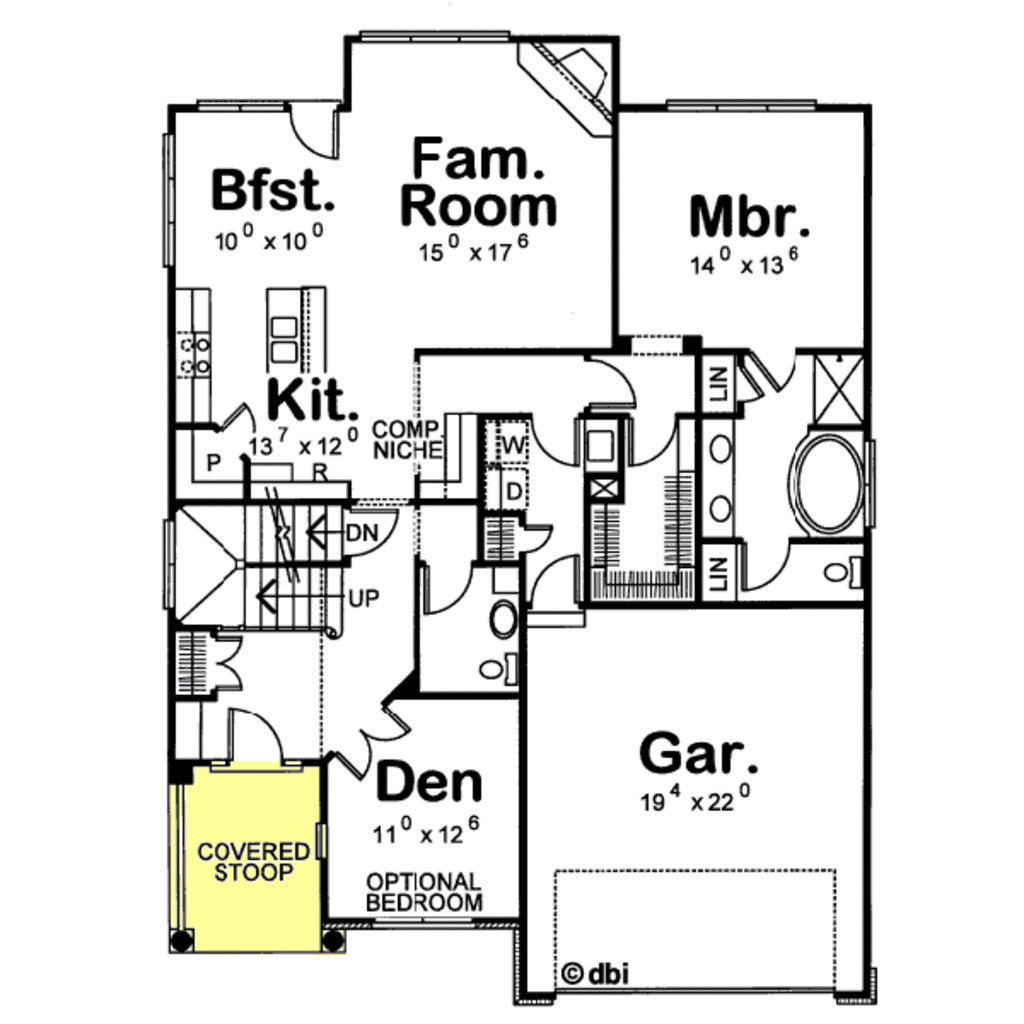door: (318, 693, 410, 785), (215, 703, 310, 773), (334, 497, 417, 562), (283, 93, 353, 165), (528, 552, 585, 632), (194, 624, 253, 692), (415, 557, 478, 620), (745, 338, 804, 403), (525, 405, 577, 478), (585, 351, 647, 412), (212, 398, 271, 457), (628, 414, 680, 473), (739, 535, 786, 595), (731, 362, 769, 414), (525, 520, 556, 562)
large_sink: (815, 539, 863, 598), (464, 647, 525, 690)
small_sink: (696, 417, 734, 541), (485, 595, 525, 643)
stairs: (174, 503, 334, 627)
tub: (785, 432, 875, 536)
twin_sink: (259, 305, 323, 389)
window: (661, 90, 815, 117), (156, 125, 180, 271), (352, 25, 509, 47), (155, 512, 185, 611), (198, 89, 288, 120), (372, 908, 485, 930)
